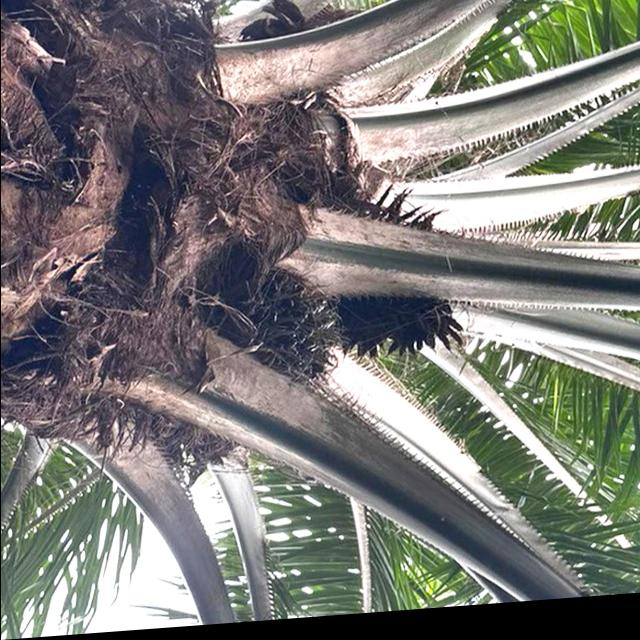unripe: (207, 255, 343, 402)
